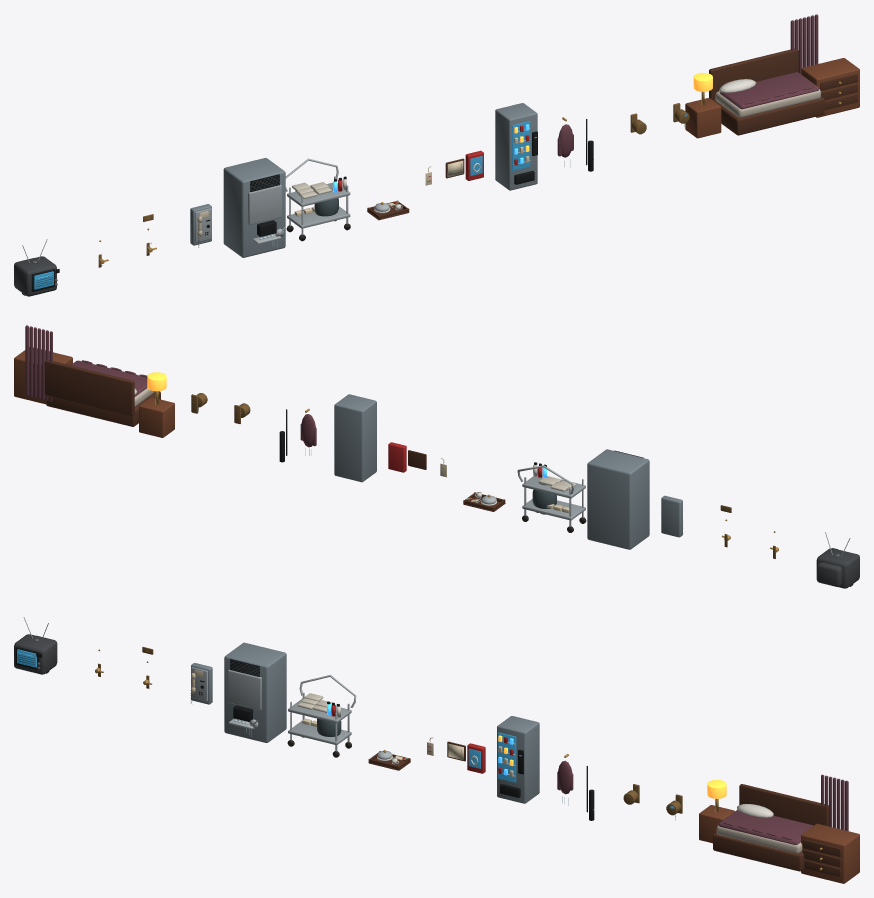
3 views of the same model, one above another, from view 1: azimuth 30°, elevation 25°; view 2: azimuth 150°, elevation 25°; view 3: azimuth 330°, elevation 25° (orthographic).
Parts seen in each view (by area): view 1: ice_machine_body, vend_body, headboard, bed_frame, blanket, dresser, nightstand, ice_machine_door, crt_shell, mattress, vend_glass, cart_shelf_0.26 (+1 smaller); view 2: ice_machine_body, vend_body, headboard, nightstand, bed_frame, dresser, crt_shell, payphone_backbox, blanket, cart_shelf_0.26, crt_rear_taper, cart_shelf_0.65 (+1 smaller); view 3: ice_machine_body, vend_body, dresser, headboard, blanket, bed_frame, ice_machine_door, crt_shell, mattress, nightstand, vend_glass, cart_shelf_0.26 (+1 smaller).
Boxes of the visible parts, x1=… form: ice_machine_body: x1=223, y1=158, x2=285, y2=257; vend_body: x1=495, y1=103, x2=537, y2=190; headboard: x1=709, y1=49, x2=798, y2=99; bed_frame: x1=713, y1=96, x2=824, y2=135; blanket: x1=719, y1=72, x2=818, y2=109; dresser: x1=801, y1=58, x2=859, y2=117; nightstand: x1=685, y1=98, x2=721, y2=138; ice_machine_door: x1=248, y1=184, x2=281, y2=225; crt_shell: x1=14, y1=256, x2=56, y2=296; mattress: x1=715, y1=89, x2=820, y2=117; vend_glass: x1=512, y1=121, x2=530, y2=170; cart_shelf_0.26: x1=287, y1=206, x2=350, y2=228; ice_machine_body: x1=587, y1=449, x2=649, y2=549; vend_body: x1=334, y1=394, x2=376, y2=482; headboard: x1=44, y1=360, x2=134, y2=416; nightstand: x1=139, y1=397, x2=174, y2=437; bed_frame: x1=46, y1=391, x2=160, y2=426; dresser: x1=14, y1=347, x2=72, y2=404; crt_shell: x1=816, y1=548, x2=859, y2=588; payphone_backbox: x1=661, y1=495, x2=682, y2=537; blanket: x1=71, y1=360, x2=147, y2=396; cart_shelf_0.26: x1=522, y1=499, x2=585, y2=520; crt_rear_taper: x1=817, y1=562, x2=842, y2=586; cart_shelf_0.65: x1=522, y1=475, x2=585, y2=498; ice_machine_body: x1=224, y1=642, x2=286, y2=742; vend_body: x1=497, y1=716, x2=539, y2=803; dresser: x1=801, y1=823, x2=859, y2=883; headboard: x1=739, y1=784, x2=828, y2=826; blanket: x1=718, y1=810, x2=813, y2=844; bed_frame: x1=713, y1=832, x2=804, y2=871; ice_machine_door: x1=228, y1=669, x2=261, y2=710; crt_shell: x1=14, y1=634, x2=57, y2=674; mattress: x1=716, y1=825, x2=802, y2=853; nightstand: x1=699, y1=805, x2=734, y2=843; vend_glass: x1=498, y1=732, x2=516, y2=782; cart_shelf_0.26: x1=288, y1=721, x2=351, y2=745.
Bounding box in the file's own units: 15.55 × 1.55 × 0.98.
